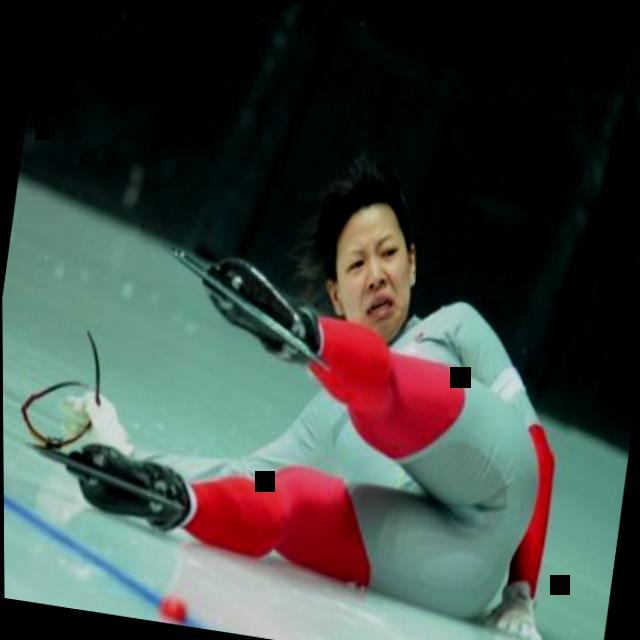Fall-Detected: (40, 68, 636, 640)
